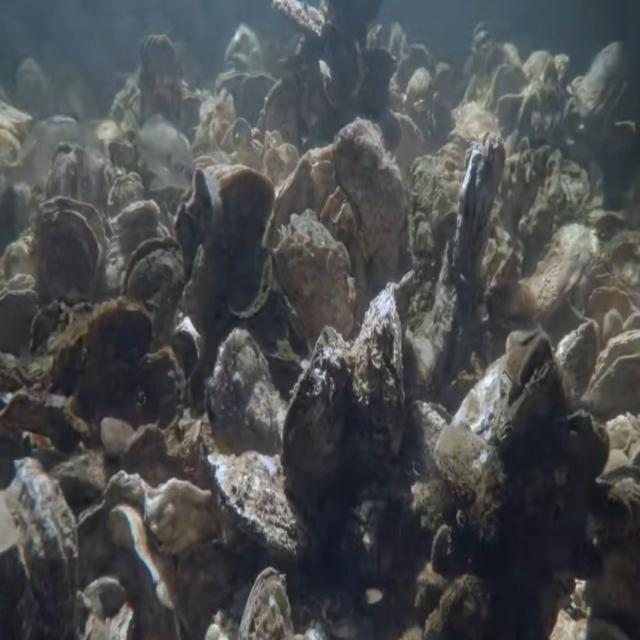Oyster-Closed: (331, 116, 409, 293), (206, 450, 312, 568), (235, 565, 293, 640), (0, 286, 44, 356), (99, 414, 137, 459)
Oyster-Indeterminate: (430, 131, 507, 356), (279, 325, 356, 518), (0, 456, 78, 639), (450, 330, 564, 454), (273, 209, 355, 347), (50, 298, 154, 396), (351, 282, 404, 464), (204, 326, 276, 456), (518, 222, 608, 321), (405, 154, 457, 322), (220, 166, 276, 319), (35, 194, 112, 305), (131, 342, 187, 427), (554, 320, 601, 419)
Oyster-Open: (122, 234, 186, 347), (580, 329, 640, 424), (175, 165, 219, 268)
